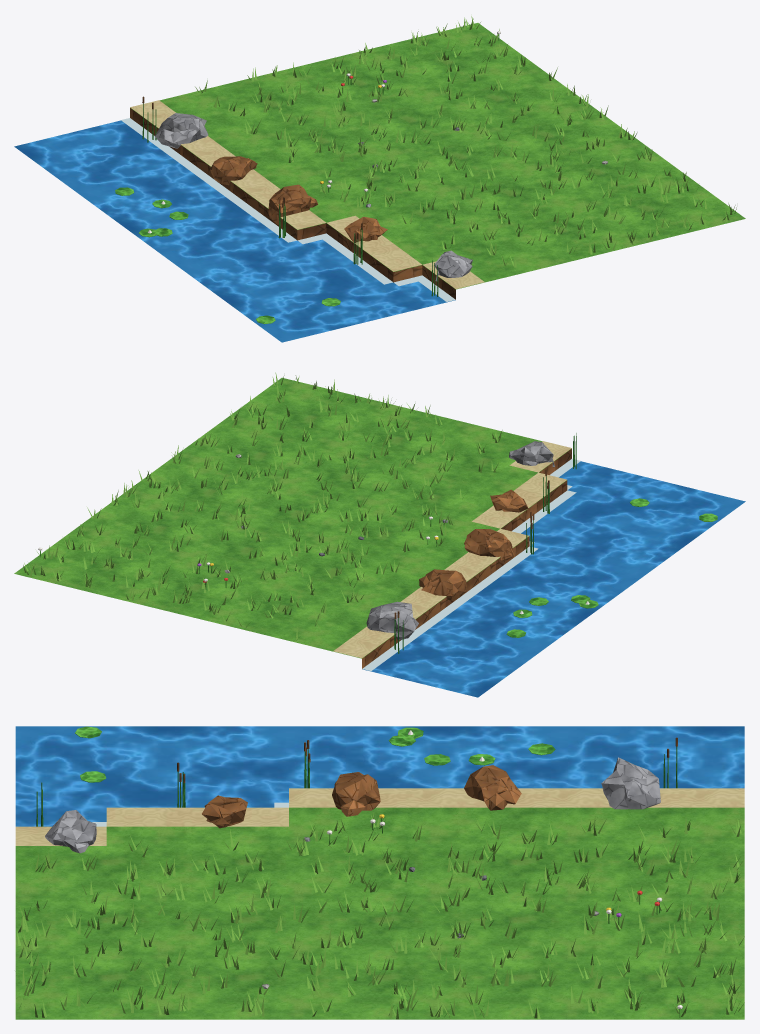
The model's file is chunk_0_4.glb.
3 renders of one model, top to bottom at view 1: azimuth 30°, elevation 25°; view 2: azimuth 150°, elevation 25°; view 3: azimuth 270°, elevation 25°, orthographic. The views are drawn at different scales.
Visible parts, largest first — view 1: chunk_0_4; view 2: chunk_0_4; view 3: chunk_0_4.
Part boxes in pixels (left/top/right/bottom): chunk_0_4: left=14, top=16, right=745, bottom=342; chunk_0_4: left=14, top=372, right=745, bottom=697; chunk_0_4: left=15, top=726, right=744, bottom=1019.
Bounding box in the file's own units: 16.14 × 1.47 × 16.07.
Materials: 17 (11 with a texture image).
